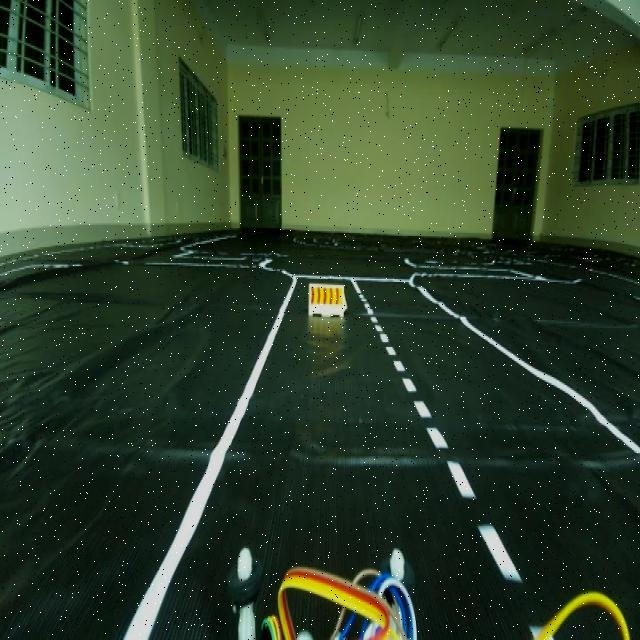roadblock: (306, 278, 350, 327)
